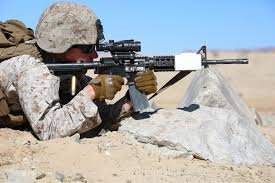gun: (39, 38, 250, 112)
